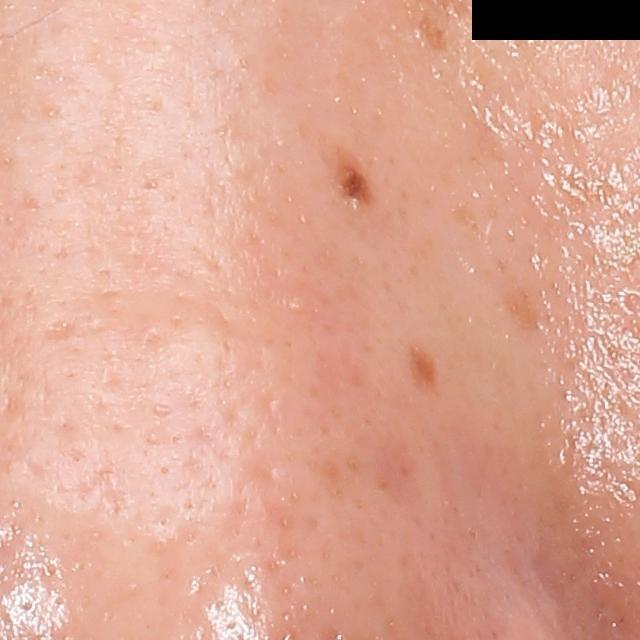atrophic_scar: (42, 321, 75, 343)
melasma: (503, 282, 543, 332)
